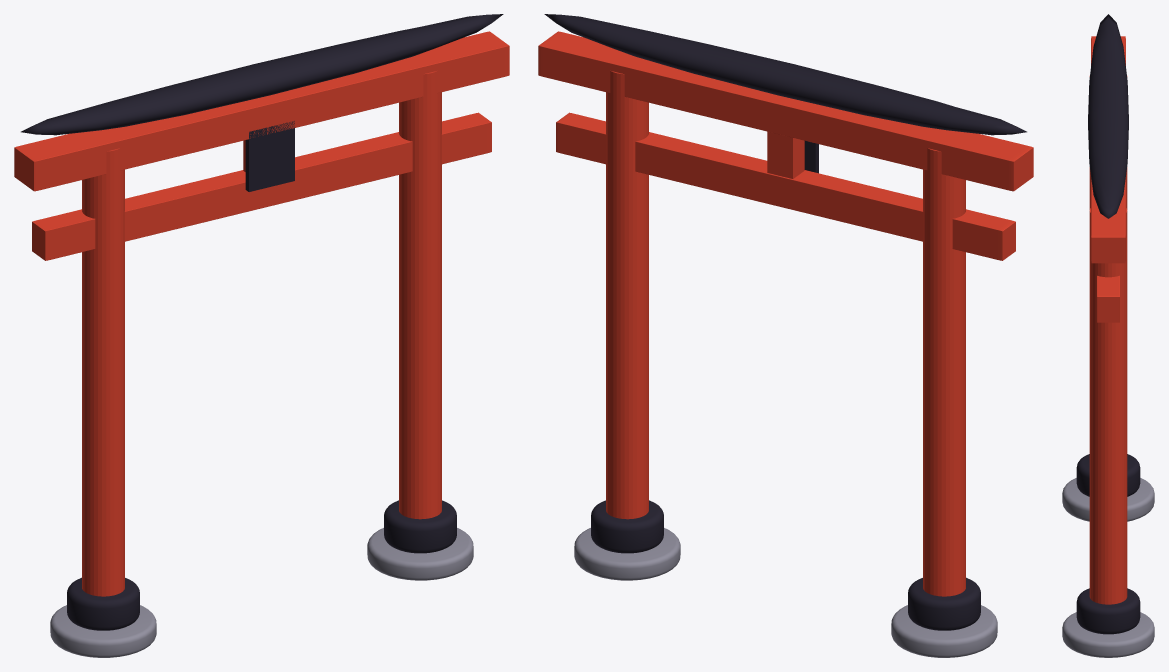
Rendered from torii.glb.
The picture shows the model from 3 angles, left to right: view 1: azimuth 30°, elevation 25°; view 2: azimuth 150°, elevation 25°; view 3: azimuth 270°, elevation 25°; orthographic projection. The views are drawn at different scales.
Visible parts, largest first — view 1: shimaki, pilar-1, pilar1, nuki, kasagi, base-1, base1, placa, pedra-1, pedra1; view 2: shimaki, pilar-1, pilar1, nuki, kasagi, base-1, base1, pedra-1, pedra1, gakuzuka; view 3: pilar1, kasagi, base1, shimaki, pedra1, base-1, nuki, pedra-1, pilar-1.
Part boxes in pixels (x1,y1,x2,y2): shimaki: [14, 31, 509, 191]; pilar-1: [82, 148, 124, 596]; pilar1: [399, 71, 441, 519]; nuki: [32, 112, 491, 260]; kasagi: [21, 14, 503, 135]; base-1: [50, 605, 156, 657]; base1: [367, 528, 473, 580]; placa: [245, 121, 294, 191]; pedra-1: [67, 577, 139, 630]; pedra1: [384, 500, 456, 553]; shimaki: [538, 31, 1033, 191]; pilar-1: [923, 148, 965, 596]; pilar1: [606, 71, 648, 519]; nuki: [556, 112, 1015, 260]; kasagi: [544, 14, 1026, 135]; base-1: [891, 605, 997, 657]; base1: [574, 528, 680, 580]; pedra-1: [908, 577, 980, 630]; pedra1: [591, 500, 663, 553]; gakuzuka: [767, 131, 804, 178]; pilar1: [1089, 208, 1127, 604]; kasagi: [1088, 14, 1128, 218]; base1: [1062, 612, 1154, 657]; shimaki: [1091, 36, 1125, 263]; pedra1: [1076, 588, 1140, 634]; base-1: [1062, 478, 1154, 521]; nuki: [1097, 275, 1119, 322]; pedra-1: [1076, 454, 1140, 496]; pilar-1: [1089, 76, 1127, 209].
Size of the model in its own units: 3.36 by 3.52 by 0.64.
